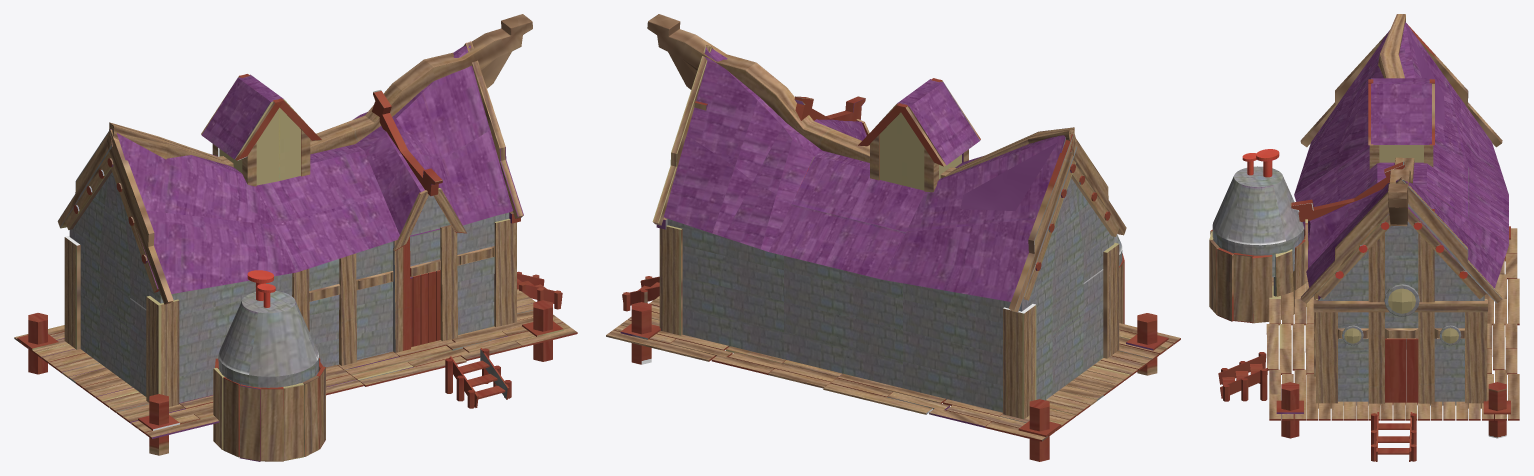
Rendered from CasaRecu16.fbx.
The picture shows the model from 3 angles, left to right: view 1: azimuth 30°, elevation 25°; view 2: azimuth 150°, elevation 25°; view 3: azimuth 270°, elevation 25°; orthographic projection. The views are drawn at different scales.
Visible parts, largest first — view 1: Casa, Cube.032; view 2: Casa, Cube.032; view 3: Casa, Cube.032, Cylinder.004, Cylinder.002, Cylinder.001.
Part boxes in pixels (left/top/right/bottom): Casa: left=14, top=41, right=577, bottom=461; Cube.032: left=109, top=14, right=532, bottom=167; Casa: left=606, top=45, right=1180, bottom=461; Cube.032: left=647, top=14, right=1076, bottom=178; Casa: left=1209, top=22, right=1519, bottom=461; Cube.032: left=1378, top=14, right=1414, bottom=226; Cylinder.004: left=1384, top=284, right=1419, bottom=316; Cylinder.002: left=1439, top=325, right=1461, bottom=345; Cylinder.001: left=1342, top=325, right=1363, bottom=345.
Bounding box in the file's own units: 1195 × 693 × 745.
